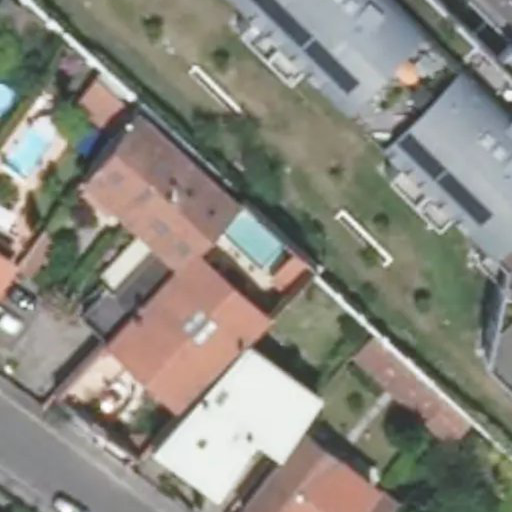pool: (223, 231, 292, 249)
